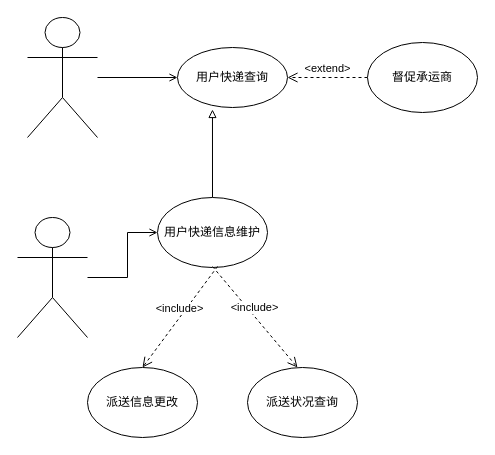
Image size: 495x455. Some labels were removed from this diagram. Each missing label, with the centre of its shape:
用户: point (52, 277)
管理员: point (62, 77)
